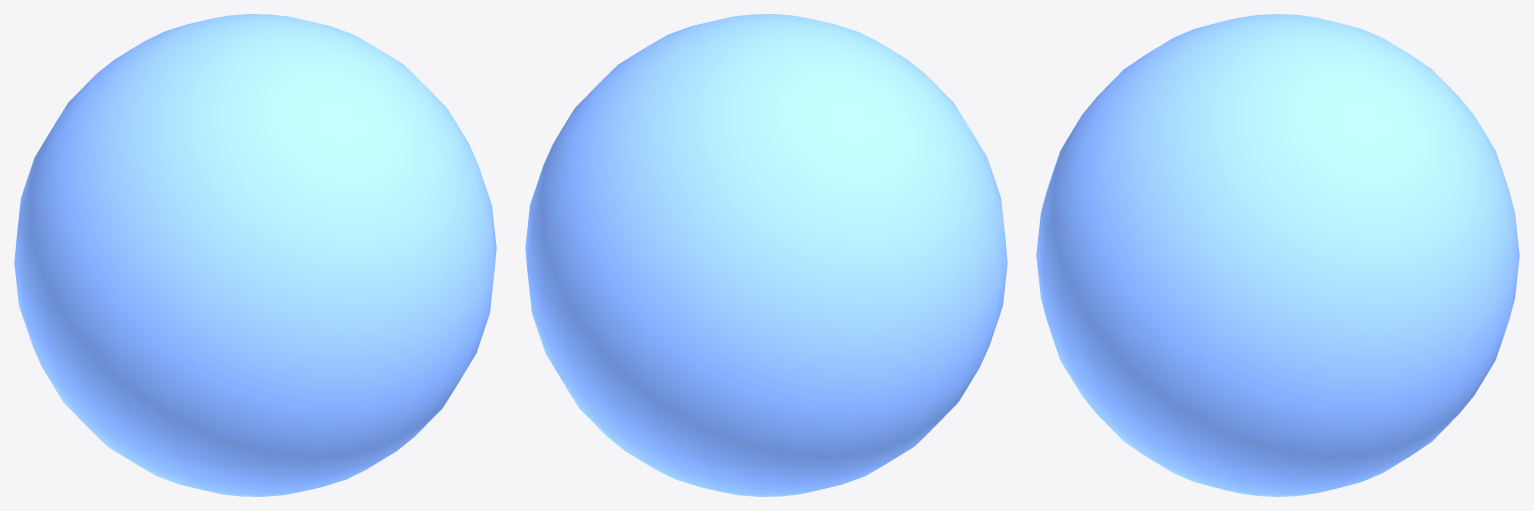
File: Orb_06_靛蓝灵珠.glb
The picture shows the model from 3 angles, left to right: view 1: azimuth 30°, elevation 25°; view 2: azimuth 150°, elevation 25°; view 3: azimuth 270°, elevation 25°; orthographic projection.
Parts seen in each view (by area): view 1: Sphere; view 2: Sphere; view 3: Sphere.
Boxes of the visible parts, box(x1,y1,x2,y2) form: Sphere: box(14, 14, 496, 496); Sphere: box(525, 14, 1007, 496); Sphere: box(1036, 14, 1519, 496).
Size of the model in its own units: 0.96 by 0.96 by 0.96.
